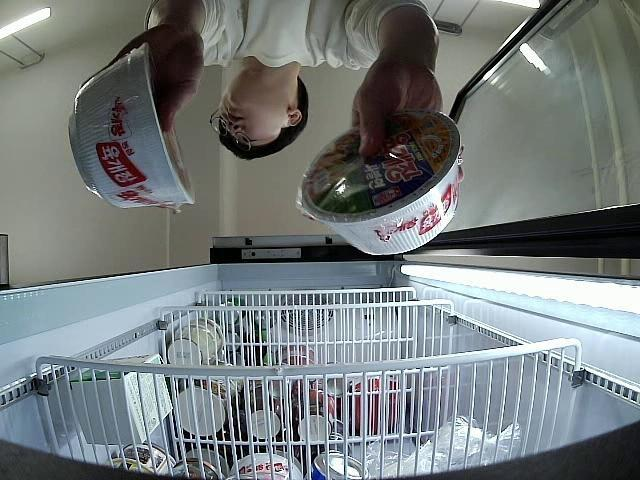09_yukGaeJang: (297, 112, 460, 256), (68, 43, 198, 211)
